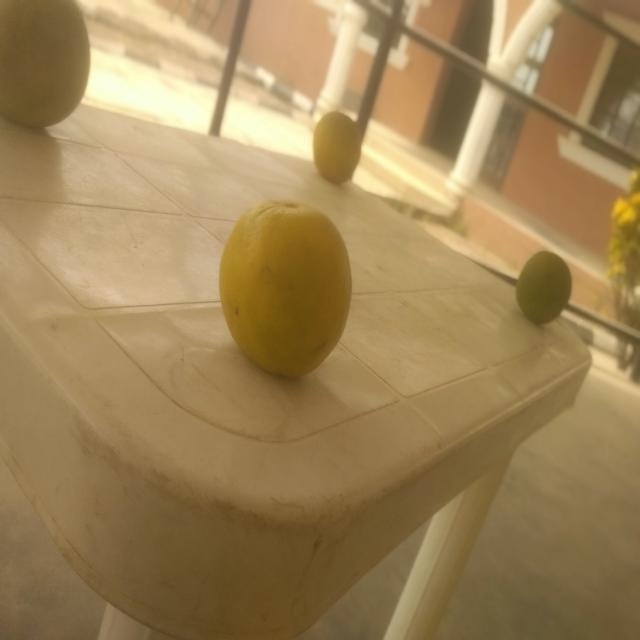agrume: (218, 199, 356, 387), (4, 0, 91, 136), (313, 103, 364, 196), (516, 249, 568, 338)
